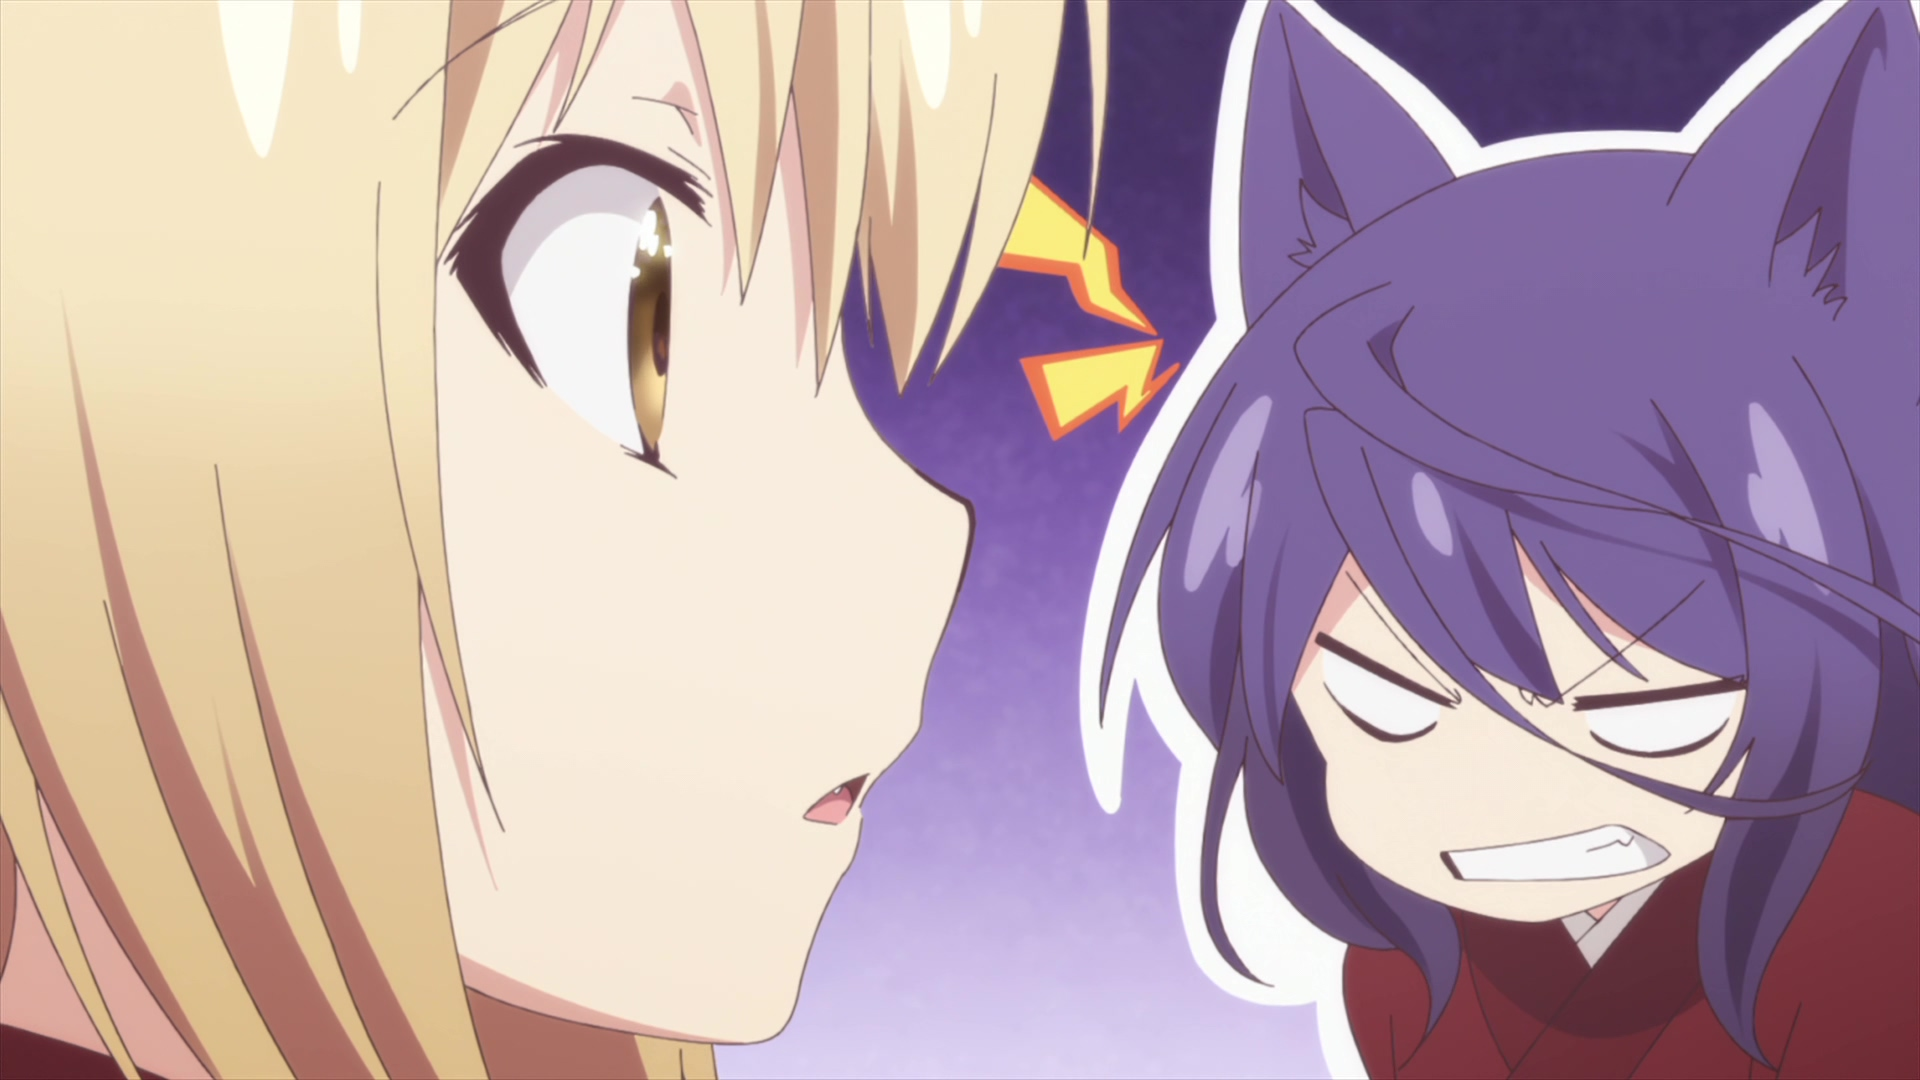柚: (1, 1, 1106, 1080)
皋: (1075, 1, 1920, 1080)
